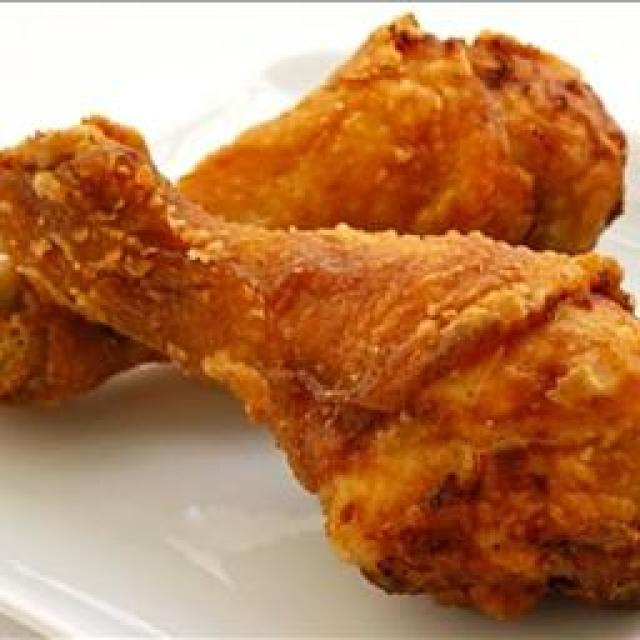friedchicken: (13, 15, 635, 577)
